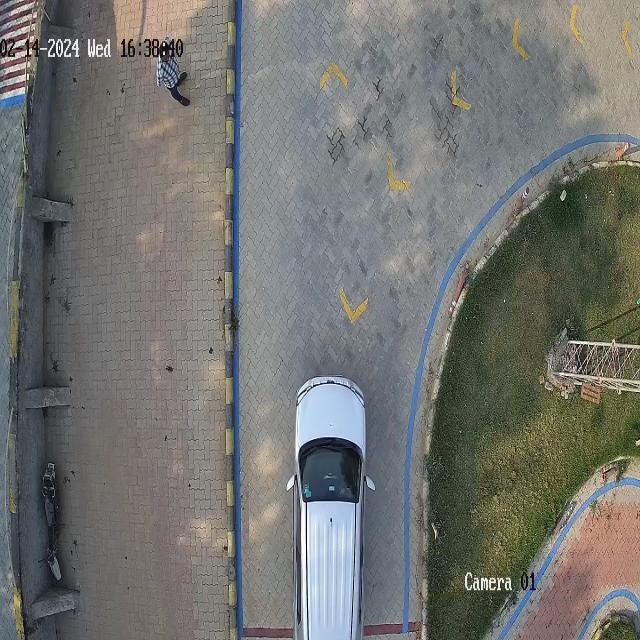car: (288, 378, 374, 640)
